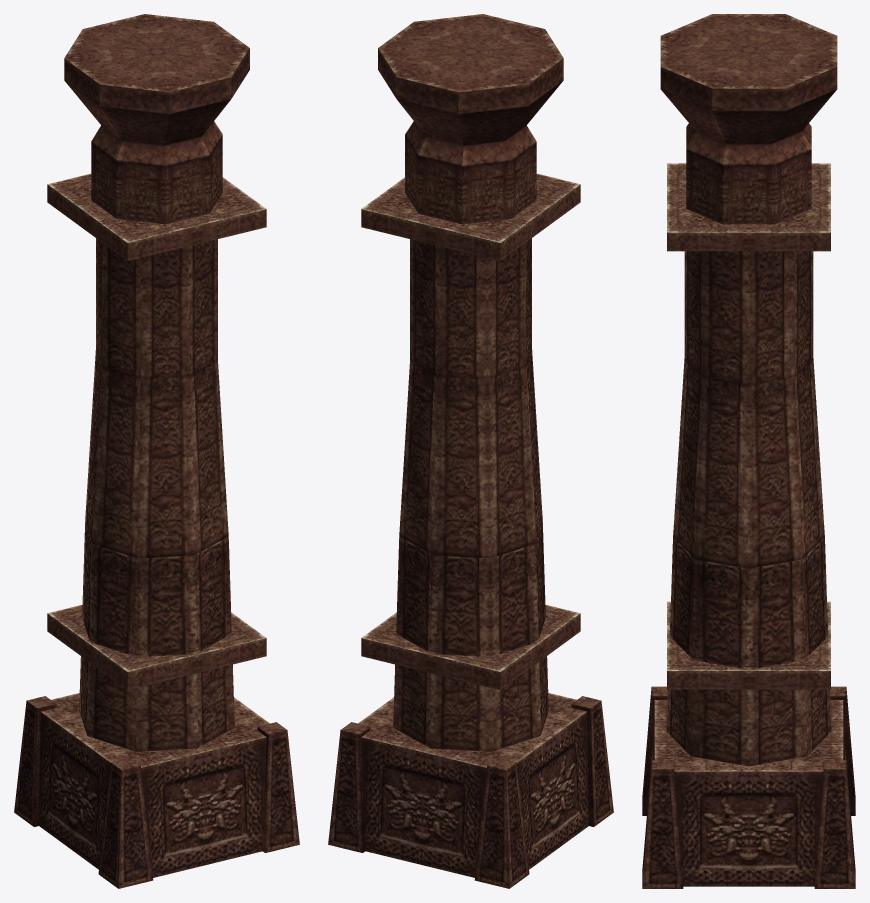
File: general_obj_bigtower03.glb
3 renders of one model, left to right at view 1: azimuth 30°, elevation 25°; view 2: azimuth 150°, elevation 25°; view 3: azimuth 270°, elevation 25°, orthographic. The views are drawn at different scales.
Visible parts, largest first — view 1: Sphere01; view 2: Sphere01; view 3: Sphere01.
Part boxes in pixels (box(x1,y1,x2,y2)): Sphere01: box(14, 14, 299, 888); Sphere01: box(328, 14, 613, 888); Sphere01: box(642, 14, 855, 888).
Bounding box in the file's own units: 5.22 × 21.37 × 5.21.
1 material, 1 textured.
